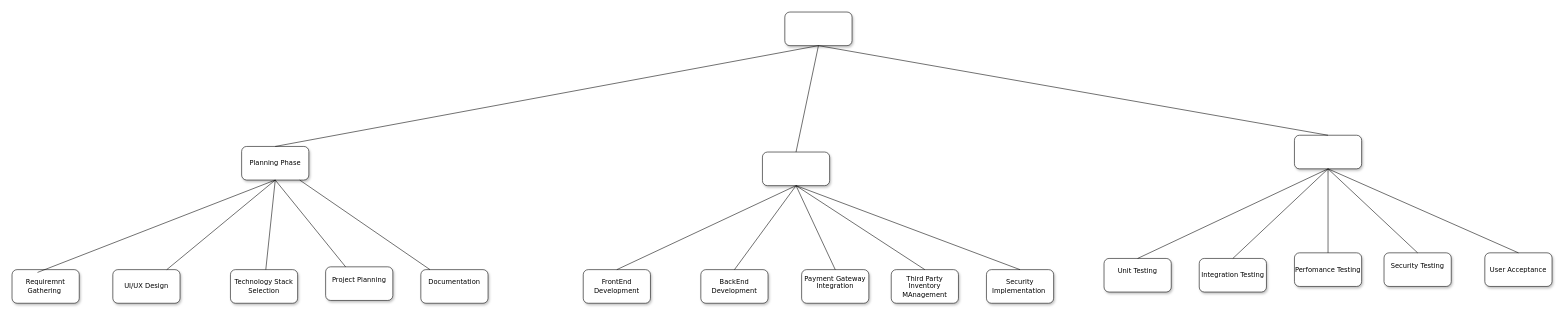
The diagram is 1565 pixels wide and 317 high, and some of its shapes have lost their labels. Here are the shapes that lost their labels. From the top down, the centre of each, then its label:
At point (818, 29): "E-Commere Platform".
At point (796, 169): "Development Phase".
At point (1328, 152): "Testing Phase".
